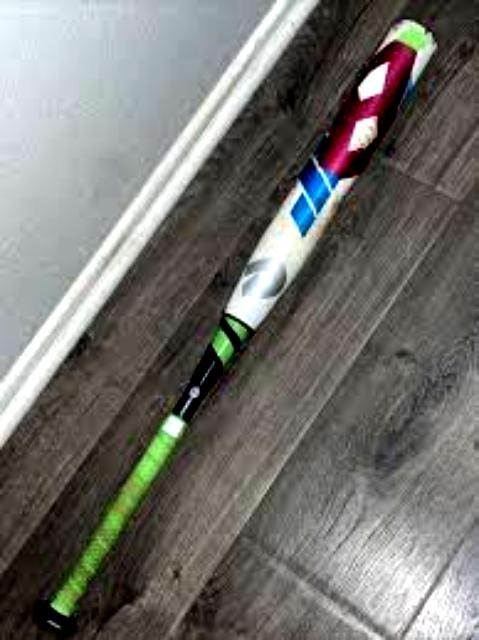baseball bat: (33, 17, 429, 640)
